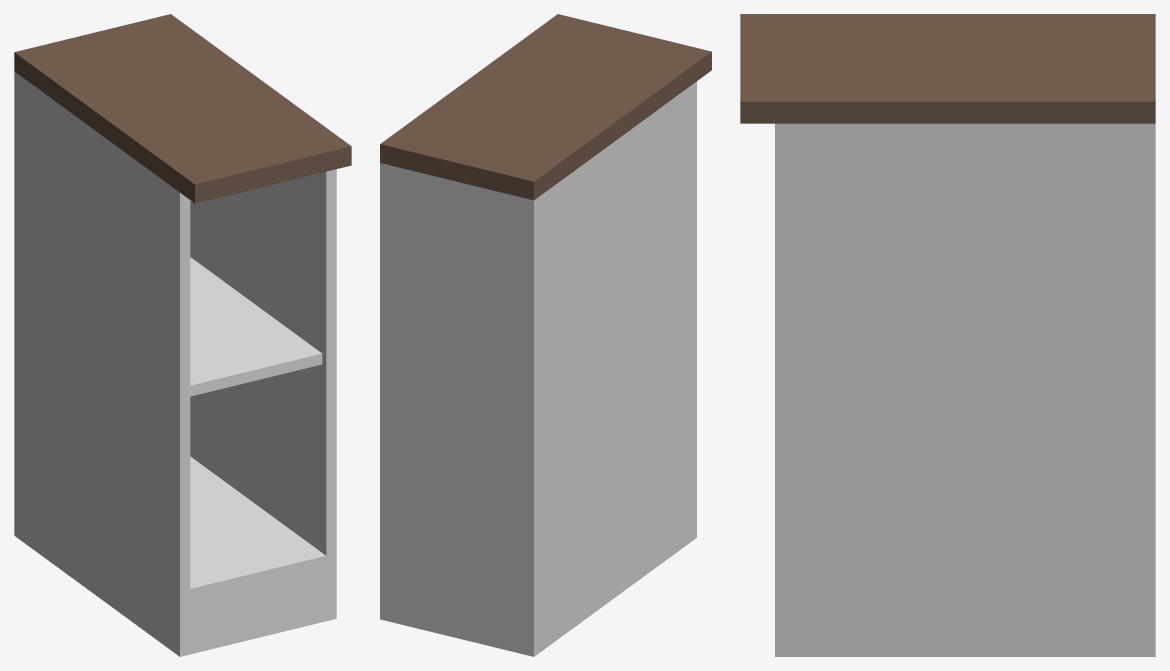
The model's file is Kitchen1_C1_04.fbx.
The picture shows the model from 3 angles, left to right: view 1: azimuth 30°, elevation 25°; view 2: azimuth 150°, elevation 25°; view 3: azimuth 270°, elevation 25°; orthographic projection. The views are drawn at different scales.
Parts seen in each view (by area): view 1: Kitchen1_C1_04; view 2: Kitchen1_C1_04; view 3: Kitchen1_C1_04.
Boxes of the visible parts, x1,y1,x2,y2 form: Kitchen1_C1_04: [14, 14, 351, 656]; Kitchen1_C1_04: [380, 14, 711, 656]; Kitchen1_C1_04: [740, 14, 1155, 656].
Bounding box in the file's own units: 30 × 88.5 × 60.
